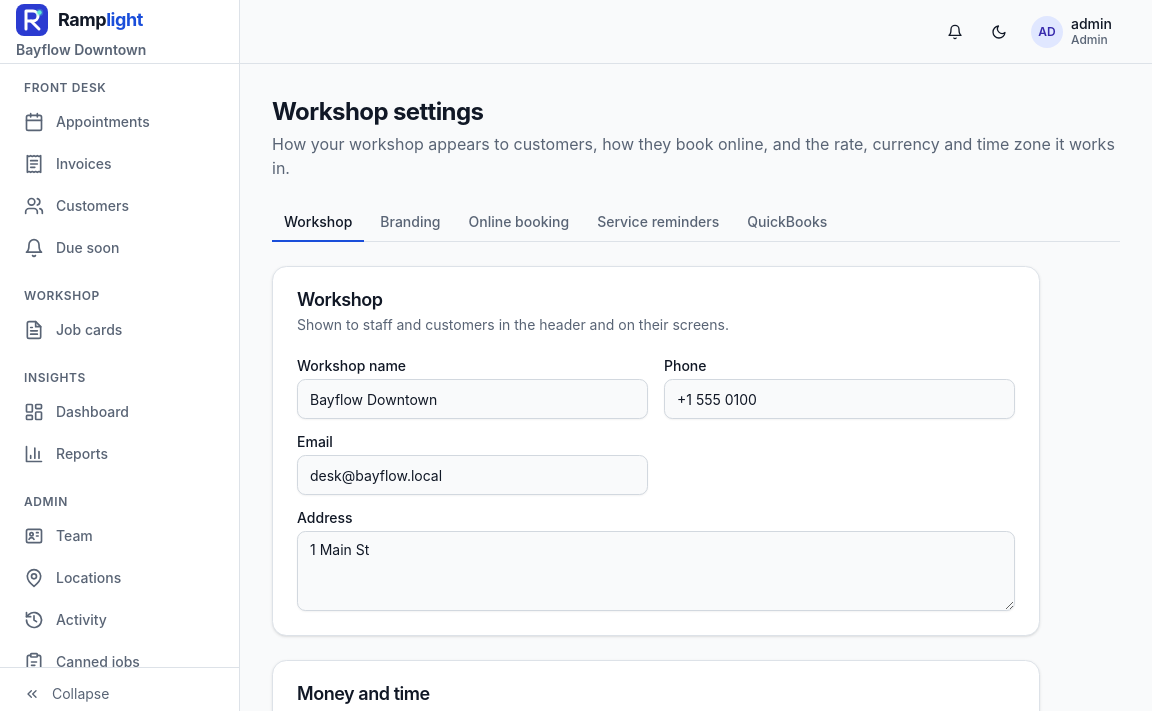
workshop settings (SaaS phase 3) › lets the admin change the rate, currency and time zone, sending the version read
The width and height of the screenshot is (1152, 711).
Replace the text in the field labelled "Workshop name" with "Bayflow Auckland" at (472, 399), box x1=297 y1=379 x2=648 y2=419
(page scrolled)
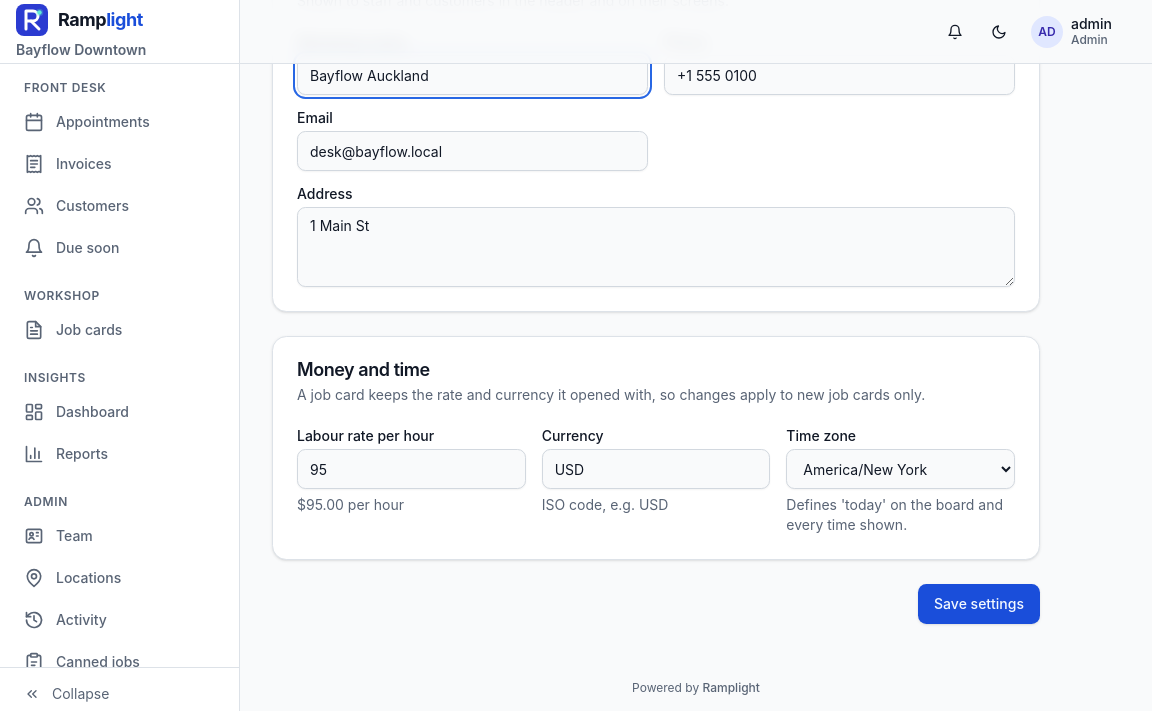
Replace the text in the field labelled "Labour rate per hour" with "140" at (411, 469), box x1=297 y1=449 x2=526 y2=489
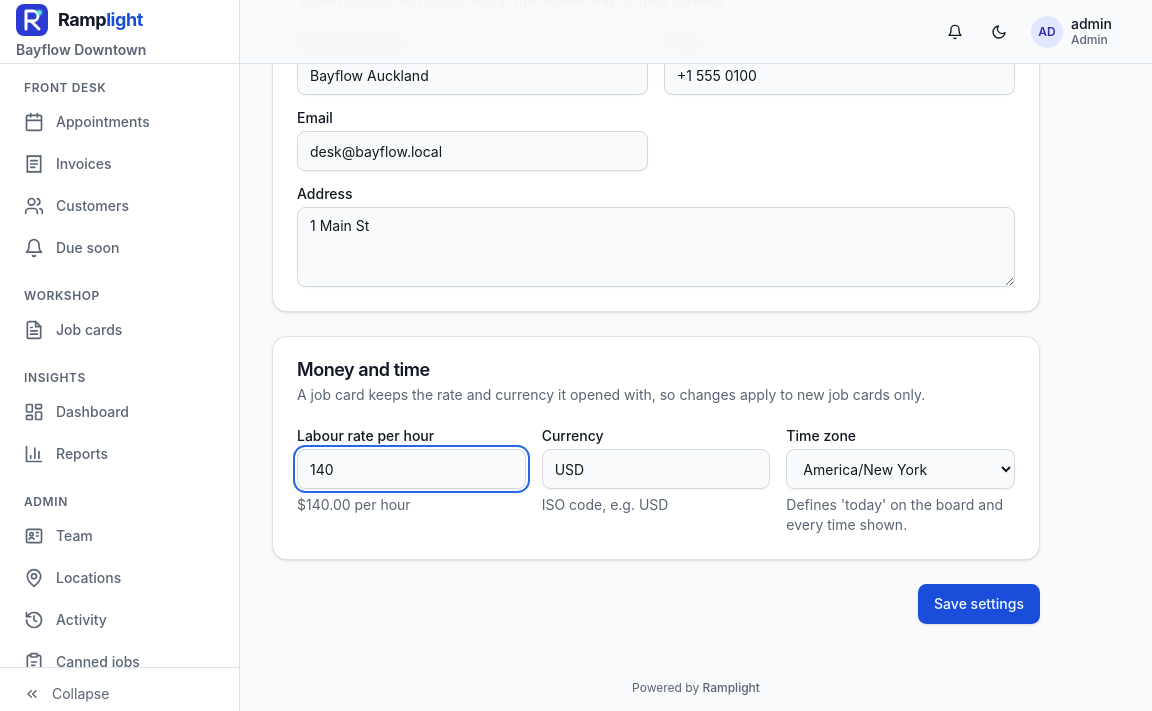
Replace the text in the field labelled "Currency" with "nzd" at (656, 469), box x1=542 y1=449 x2=770 y2=489
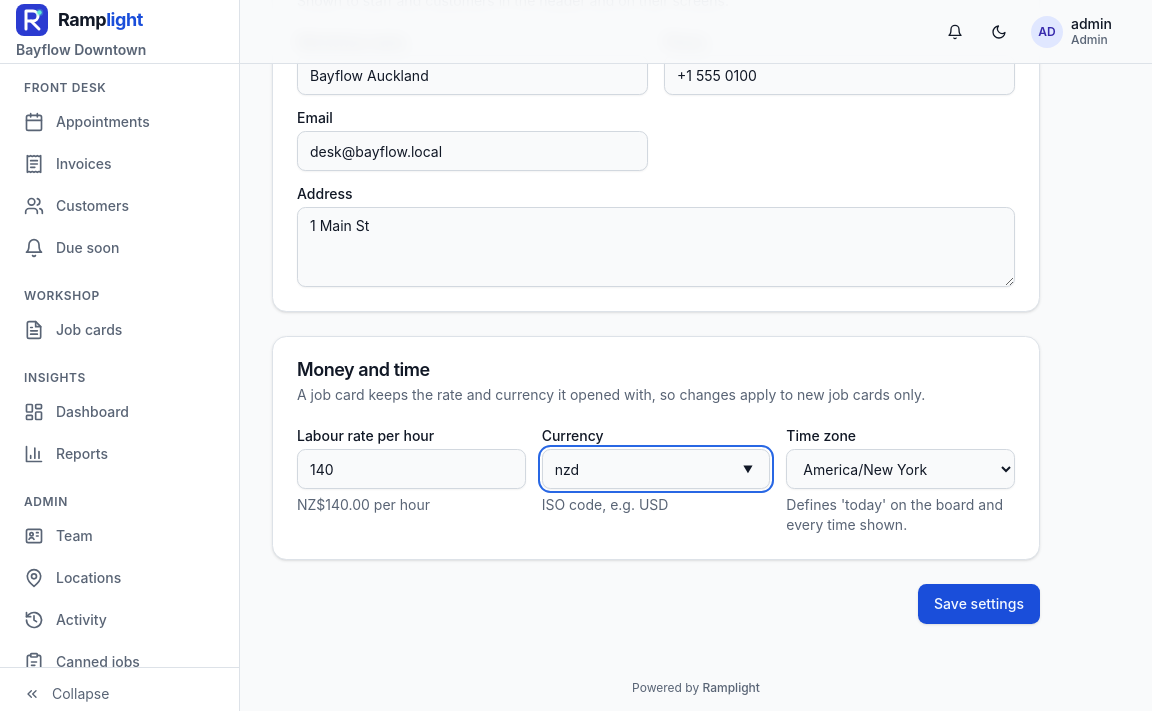
Select "Pacific/Auckland" in the dropdown labelled "Time zone" at (901, 469), box x1=786 y1=449 x2=1015 y2=489
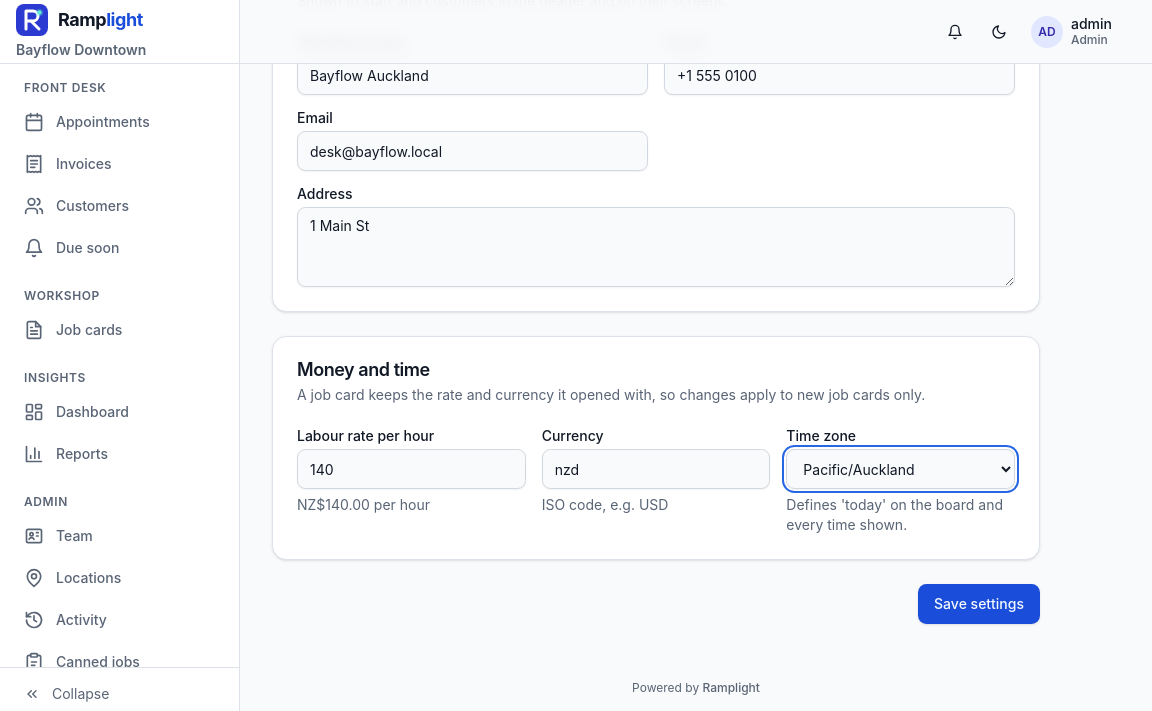
Click the button "Save settings" at (979, 604), box x1=918 y1=584 x2=1040 y2=624
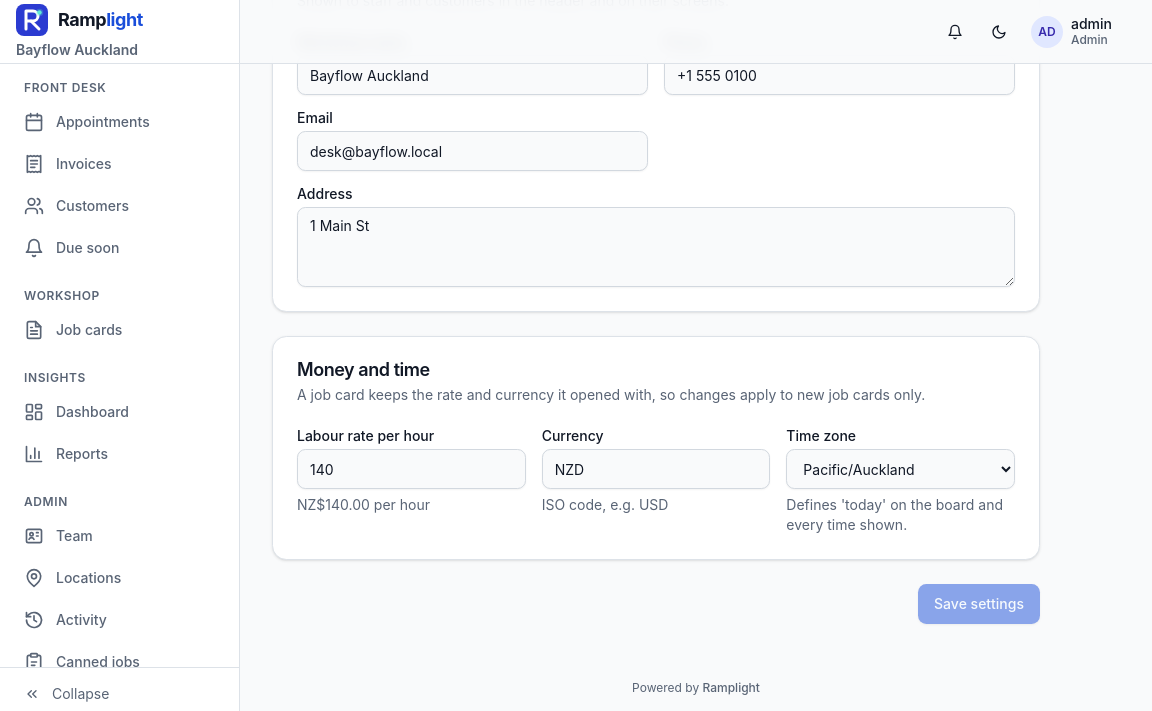
Now the text with test id "workshop-name" reads "Bayflow Auckland", box x1=16 y1=40 x2=138 y2=58
